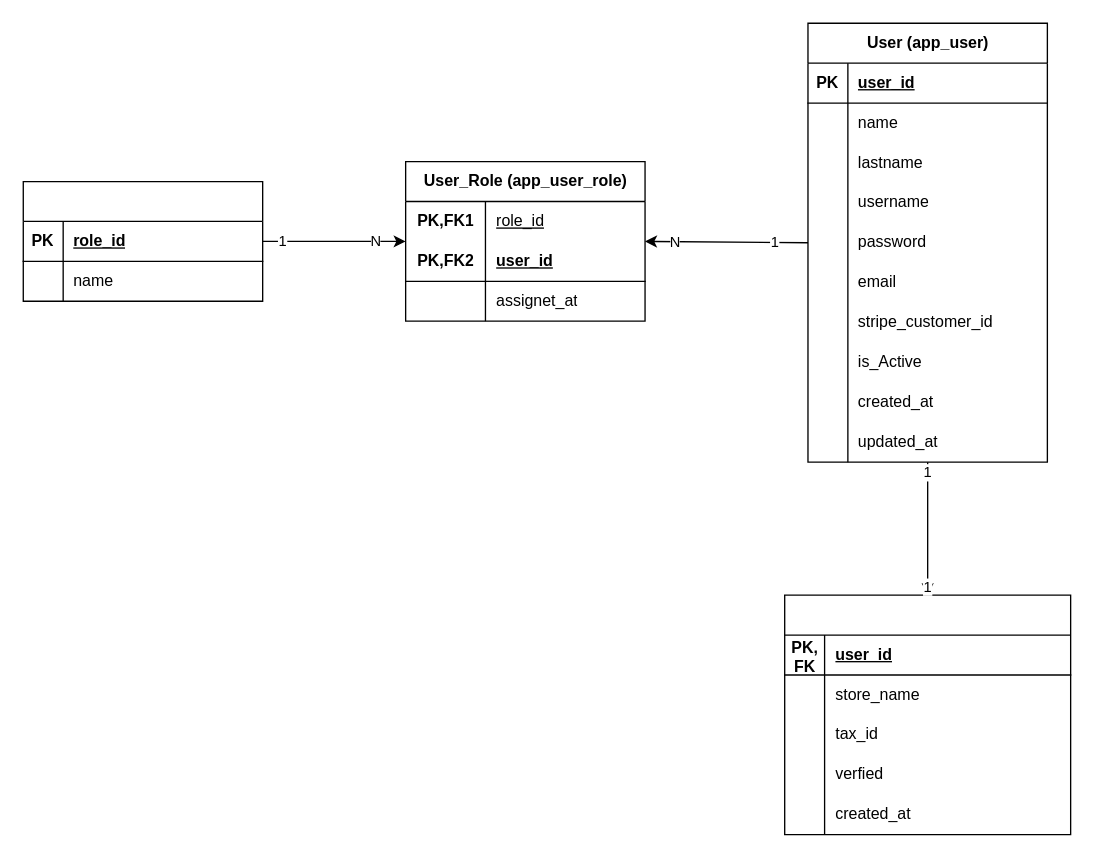
This 1095x858 diagram has some shape labels left out. The box of each missing label's shape, as (x1, y1, x2, y2) in pixels:
Role (app_role): (22, 180, 263, 301)
Seller Profile (app_seller_profile): (783, 594, 1071, 835)
